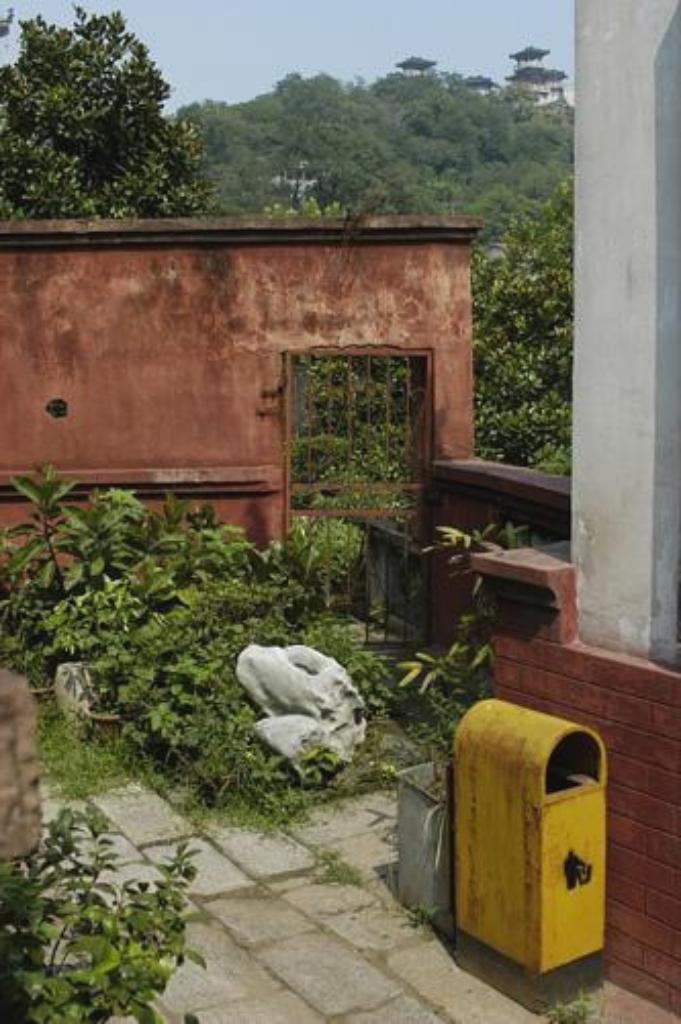dustbin: (408, 706, 616, 994)
